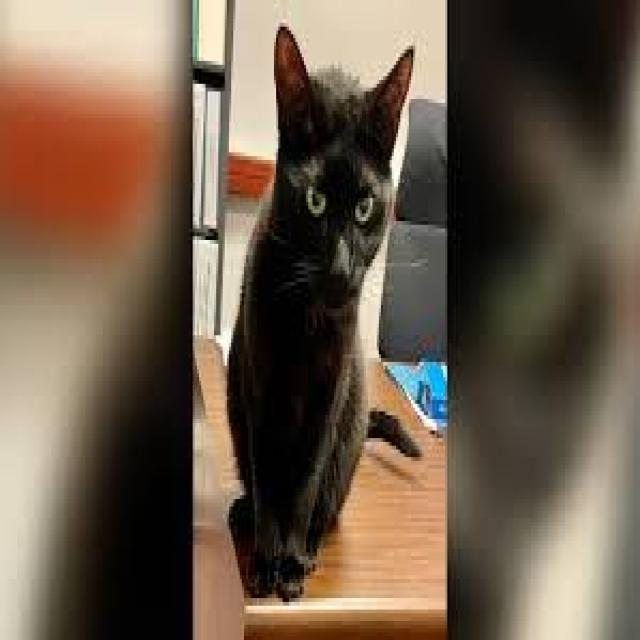Cat: (268, 12, 419, 286)
